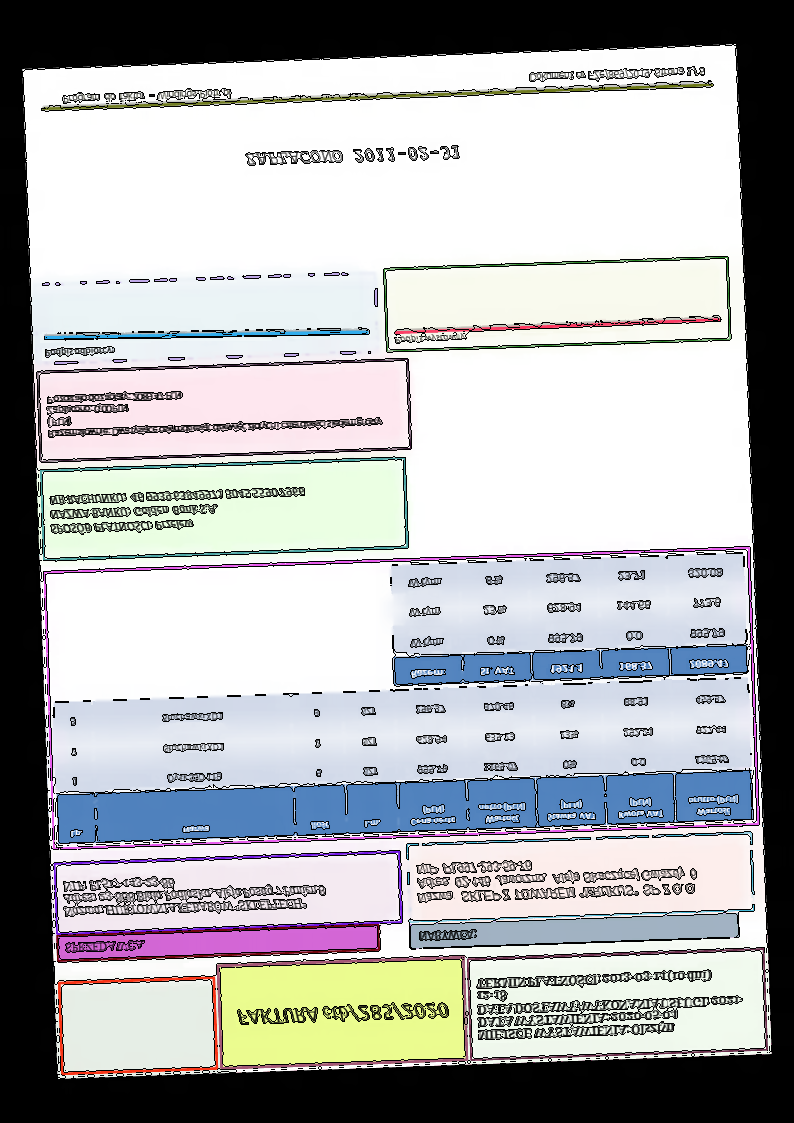Table: (52, 677, 753, 845), (388, 552, 749, 687)
TextBox: (475, 967, 746, 1042), (44, 382, 384, 441), (415, 851, 700, 906), (48, 484, 308, 537), (60, 870, 325, 919), (235, 998, 450, 1030), (244, 142, 462, 167), (527, 60, 706, 86), (60, 85, 232, 105), (63, 937, 149, 955), (41, 343, 119, 359), (393, 331, 469, 345), (417, 926, 478, 943)
